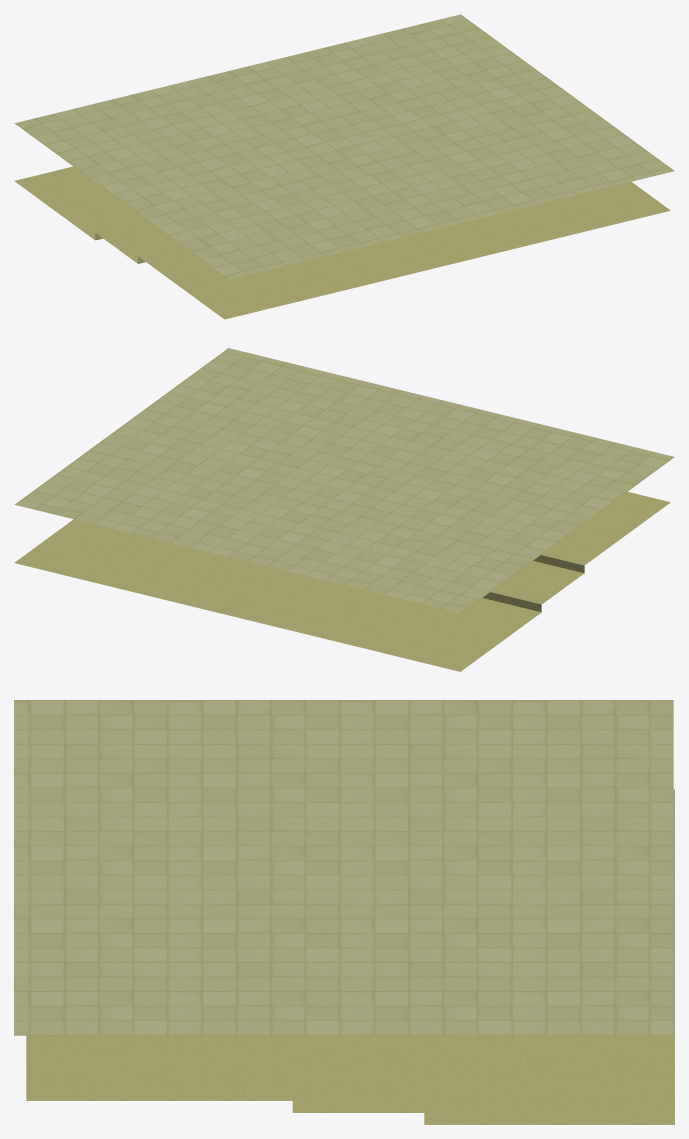
The model's file is SM_Backrooms_00_Ceiling.fbx.
3 views of the same model, one above another, from view 1: azimuth 30°, elevation 25°; view 2: azimuth 150°, elevation 25°; view 3: azimuth 270°, elevation 25° (orthographic). The views are drawn at different scales.
Parts seen in each view (by area): view 1: SM_Backrooms_00_Ceiling; view 2: SM_Backrooms_00_Ceiling; view 3: SM_Backrooms_00_Ceiling.
Boxes of the visible parts, <box> form: SM_Backrooms_00_Ceiling: <box>14,14,674,319</box>; SM_Backrooms_00_Ceiling: <box>14,348,674,671</box>; SM_Backrooms_00_Ceiling: <box>14,700,674,1124</box>.
Bounding box in the file's own units: 6035 × 748 × 5024.
